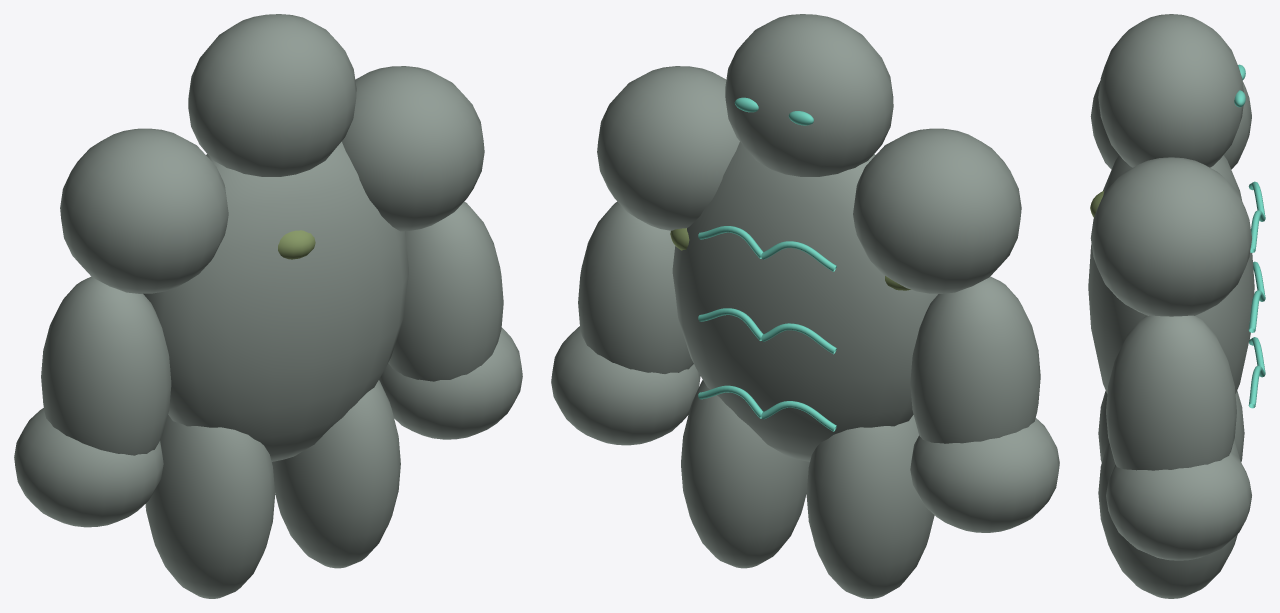
Rendered from golem.glb.
3 views of the same model, side by side, from view 1: azimuth 30°, elevation 25°; view 2: azimuth 150°, elevation 25°; view 3: azimuth 270°, elevation 25° (orthographic). The views are drawn at different scales.
Parts seen in each view (by area): view 1: Stone ribcage, Ancient brow, Shoulder tor, Granite forearm, Golem leg, Shoulder tor.001, Golem leg.001, Granite forearm.001, Stone fist, Stone fist.001, Overgrown moss; view 2: Stone ribcage, Shoulder tor, Ancient brow, Granite forearm, Shoulder tor.001, Golem leg, Golem leg.001, Granite forearm.001, Stone fist, Stone fist.001; view 3: Shoulder tor.001, Ancient brow, Granite forearm.001, Stone fist.001, Stone ribcage, Golem leg.001, Shoulder tor, Golem leg, Runic seam.004, Runic seam.003, Runic seam.005, Runic seam.002 (+1 smaller).
Part boxes in pixels (<box>): Stone ribcage: <box>143,141,408,461</box>; Ancient brow: <box>188,14,356,176</box>; Shoulder tor: <box>60,128,228,293</box>; Granite forearm: <box>41,276,171,455</box>; Golem leg: <box>145,415,275,598</box>; Shoulder tor.001: <box>342,66,484,231</box>; Golem leg.001: <box>272,380,400,568</box>; Granite forearm.001: <box>388,201,503,381</box>; Stone fist: <box>14,408,163,527</box>; Stone fist.001: <box>379,327,522,439</box>; Overgrown moss: <box>278,230,315,259</box>; Stone ribcage: <box>672,142,938,461</box>; Shoulder tor: <box>853,128,1021,293</box>; Ancient brow: <box>725,14,893,176</box>; Granite forearm: <box>910,276,1040,443</box>; Shoulder tor.001: <box>597,66,739,230</box>; Golem leg: <box>806,415,934,598</box>; Golem leg.001: <box>681,380,809,568</box>; Granite forearm.001: <box>578,201,693,373</box>; Stone fist: <box>910,418,1059,532</box>; Stone fist.001: <box>551,326,700,445</box>; Shoulder tor.001: <box>1090,157,1251,316</box>; Ancient brow: <box>1098,14,1243,167</box>; Granite forearm.001: <box>1106,315,1236,470</box>; Stone fist.001: <box>1106,451,1251,560</box>; Stone ribcage: <box>1088,155,1254,393</box>; Golem leg.001: <box>1098,440,1240,598</box>; Shoulder tor: <box>1090,81,1251,169</box>; Golem leg: <box>1098,391,1244,462</box>; Runic seam.004: <box>1248,290,1265,332</box>; Runic seam.003: <box>1248,365,1265,408</box>; Runic seam.005: <box>1250,210,1265,252</box>; Runic seam.002: <box>1248,181,1265,217</box>.
Bounding box in the file's own units: 2.18 × 2.38 × 0.7038.
